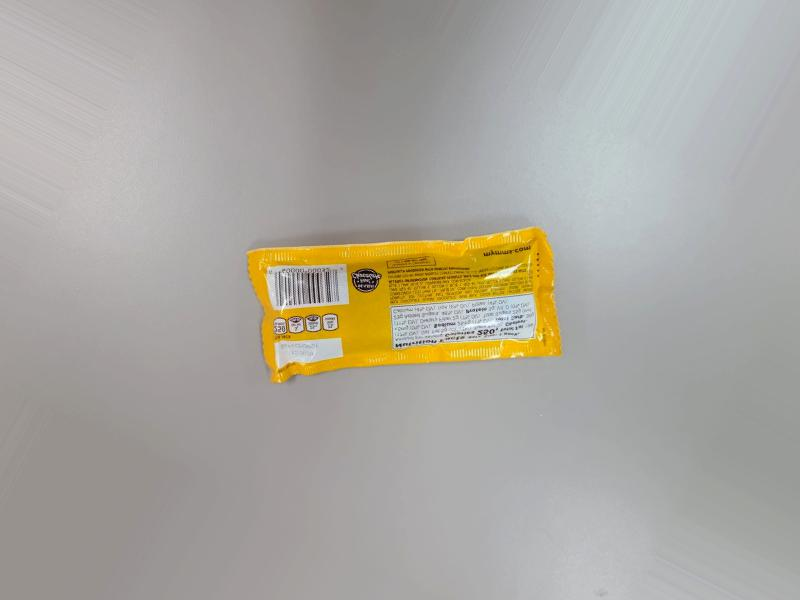m&m: (214, 199, 587, 395)
